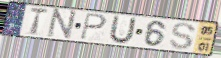6: (144, 20, 169, 48)
N: (46, 8, 79, 41)
P: (79, 12, 108, 41)
S: (168, 21, 197, 51)
T: (28, 6, 50, 37)
U: (107, 14, 138, 45)
